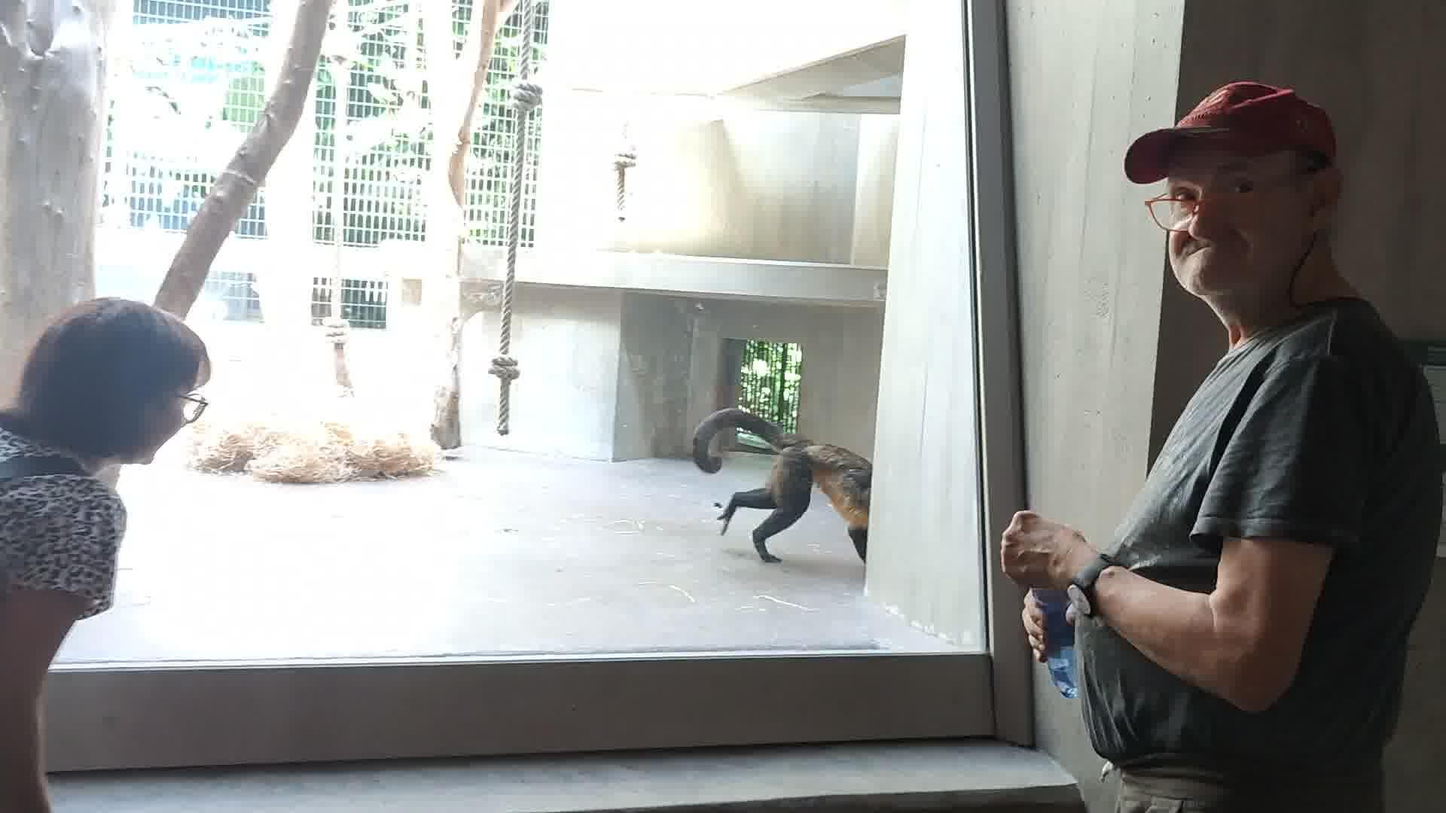boar: (693, 408, 873, 564)
